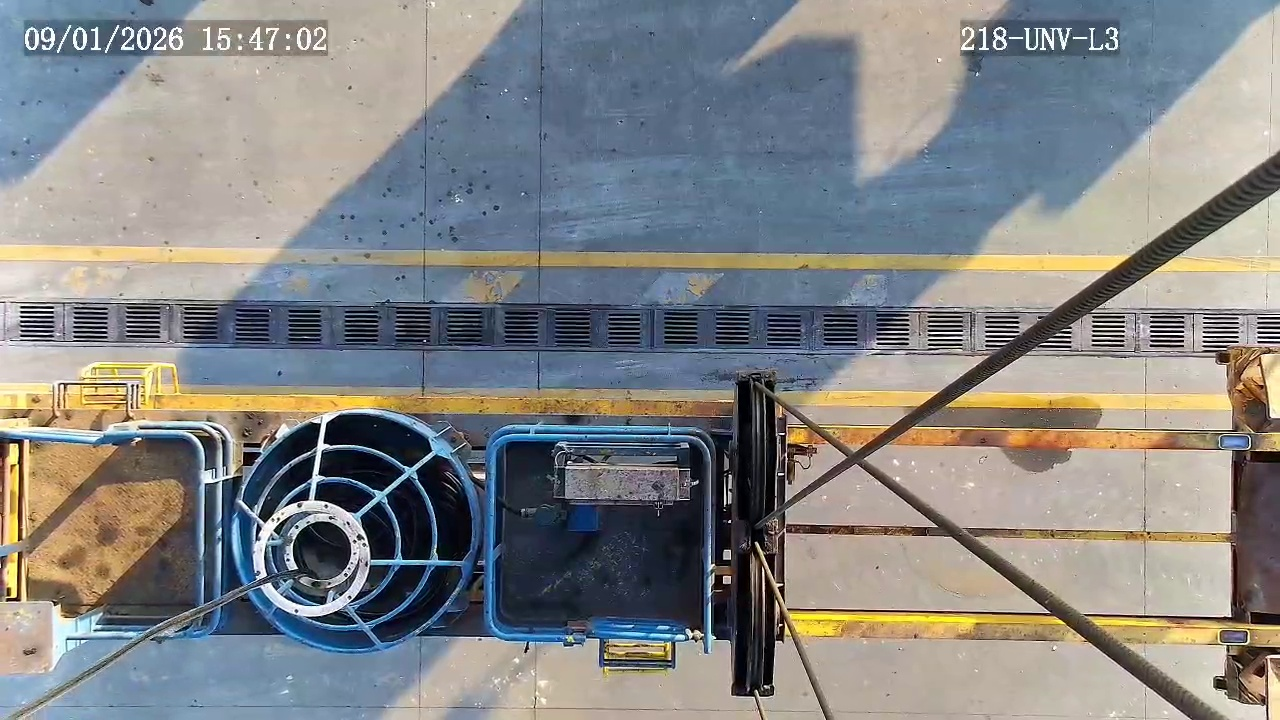right: (231, 411, 478, 653)
